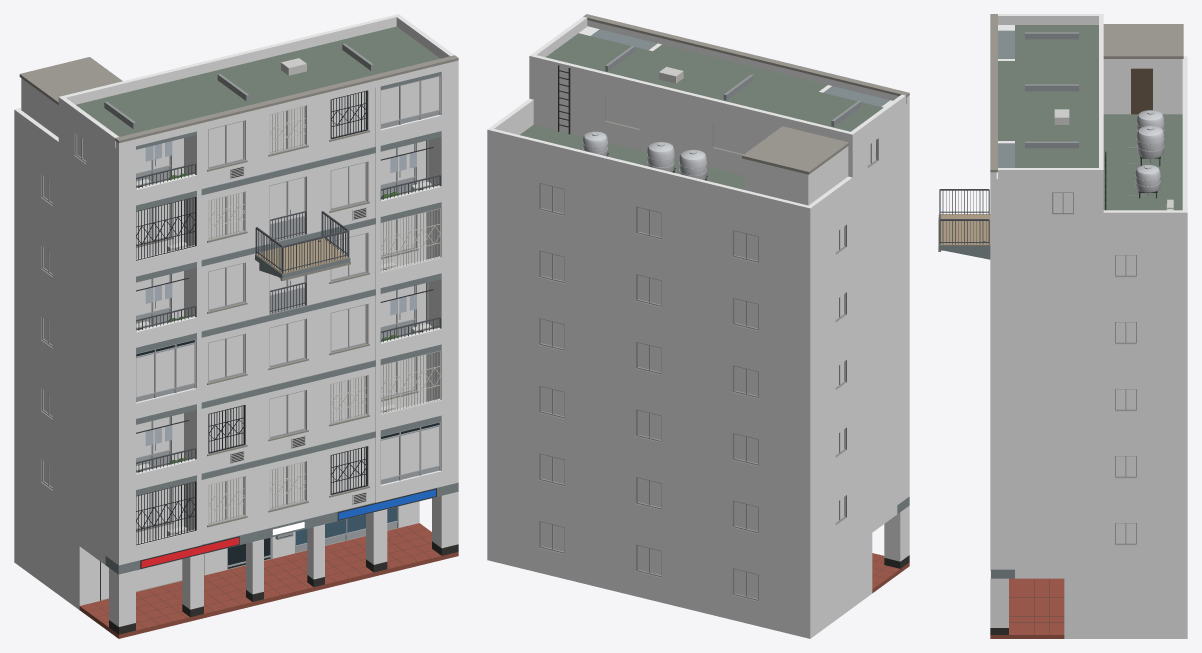
The model's file is target30.glb.
3 views of the same model, side by side, from view 1: azimuth 30°, elevation 25°; view 2: azimuth 150°, elevation 25°; view 3: azimuth 270°, elevation 25° (orthographic). The views are drawn at different scales.
Parts seen in each view (by area): view 1: T30_Building, T30B_TargetBalcony; view 2: T30_Building; view 3: T30_Building, T30B_TargetBalcony.
Boxes of the visible parts, box(x1,y1,x2,y2) form: T30_Building: box(14, 14, 458, 638); T30B_TargetBalcony: box(255, 211, 350, 280); T30_Building: box(487, 14, 909, 638); T30_Building: box(990, 14, 1187, 638); T30B_TargetBalcony: box(938, 189, 990, 259).
Size of the model in its own units: 15 by 21 by 10.11.
